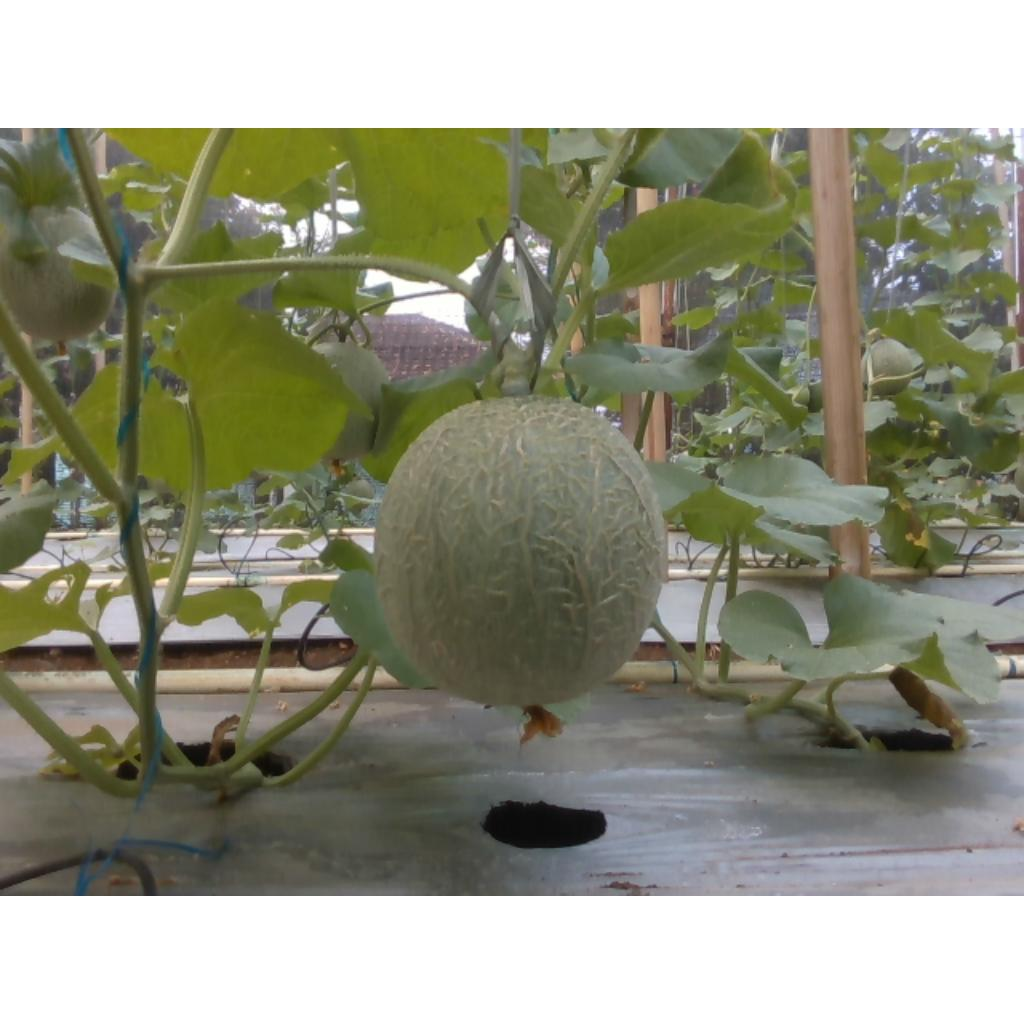melon: (378, 397, 667, 708)
